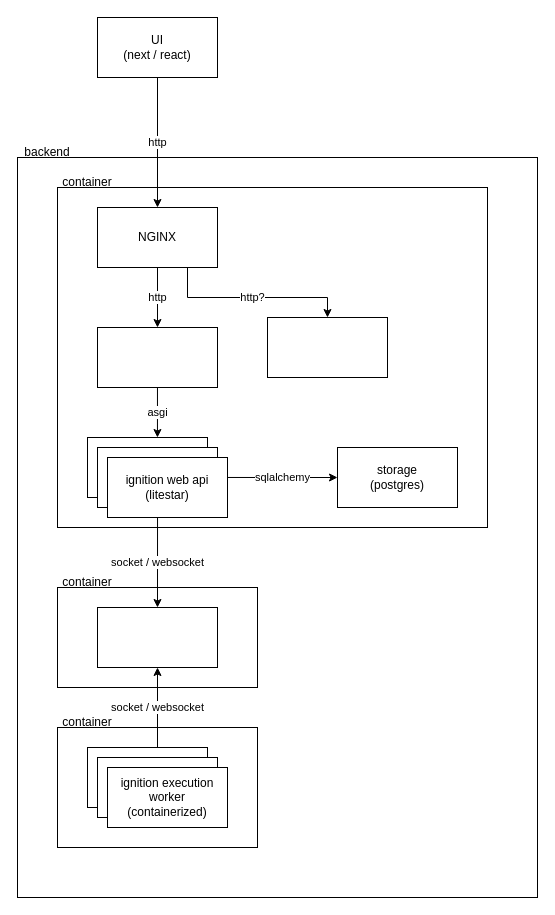
This 555x915 diagram has some shape labels left out. The shapes that lost their labels are listed below. From the top down, each one's centre as x and y in pixels, then its label:
At pixel 157 357: "uvicorn".
At pixel 327 347: "static assets".
At pixel 157 637: "ignition execution master".
